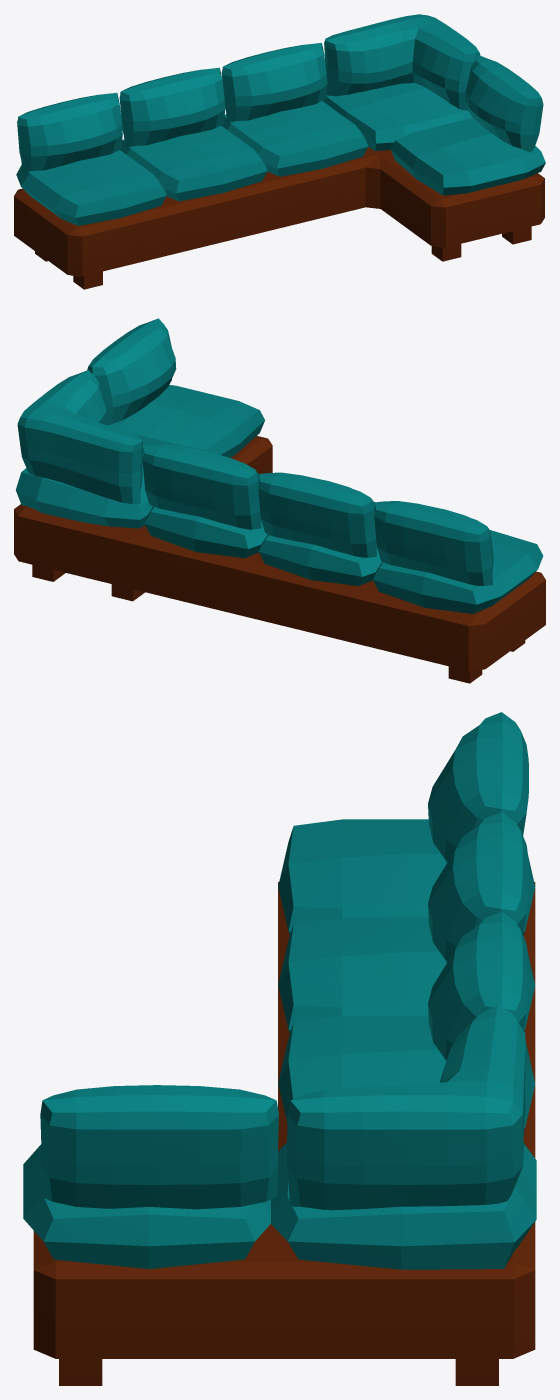
File: Sillon2.fbx
3 views of the same model, one above another, from view 1: azimuth 30°, elevation 25°; view 2: azimuth 150°, elevation 25°; view 3: azimuth 270°, elevation 25° (orthographic). The views are drawn at different scales.
Visible parts, largest first — view 1: Sillon2.001; view 2: Sillon2.001; view 3: Sillon2.001.
Part boxes in pixels (bbox=[...]): Sillon2.001: bbox=[14, 14, 545, 289]; Sillon2.001: bbox=[14, 318, 545, 683]; Sillon2.001: bbox=[23, 712, 536, 1385].
Bounding box in the file's own units: 7.59 × 2.52 × 3.99.
1 material, 1 textured.
